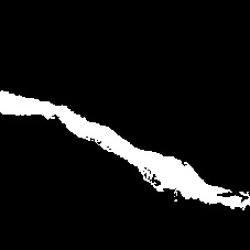crack: (2, 90, 247, 210)
